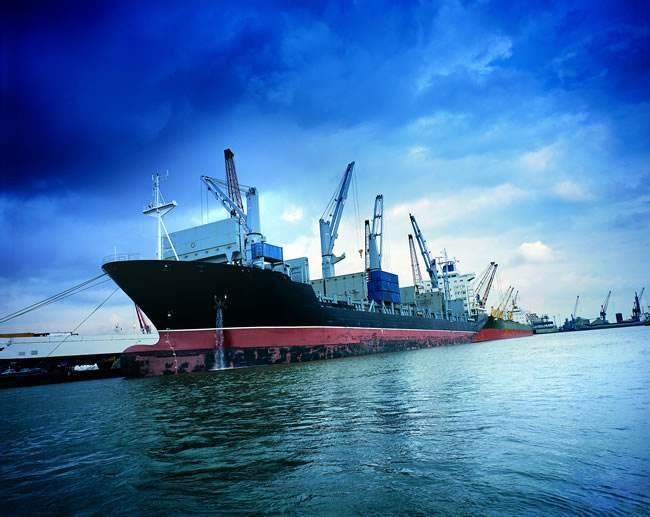Cargoship: (104, 127, 483, 348)
